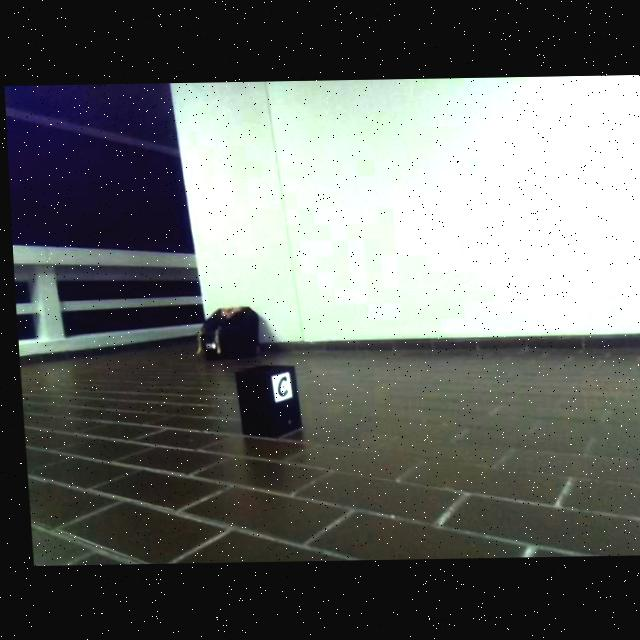C: (272, 376, 284, 397)
